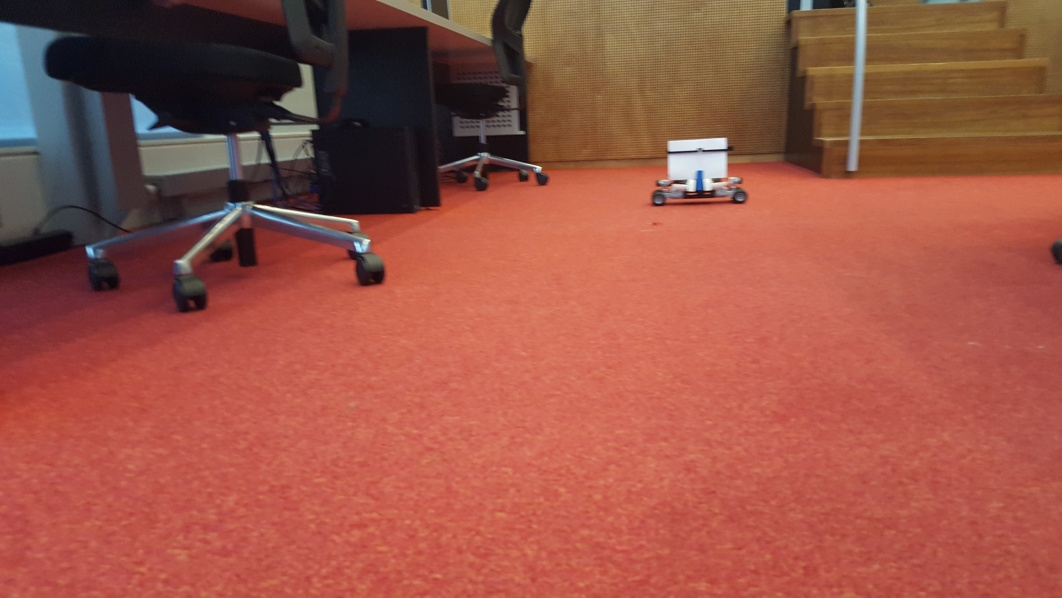car: (652, 136, 749, 209)
